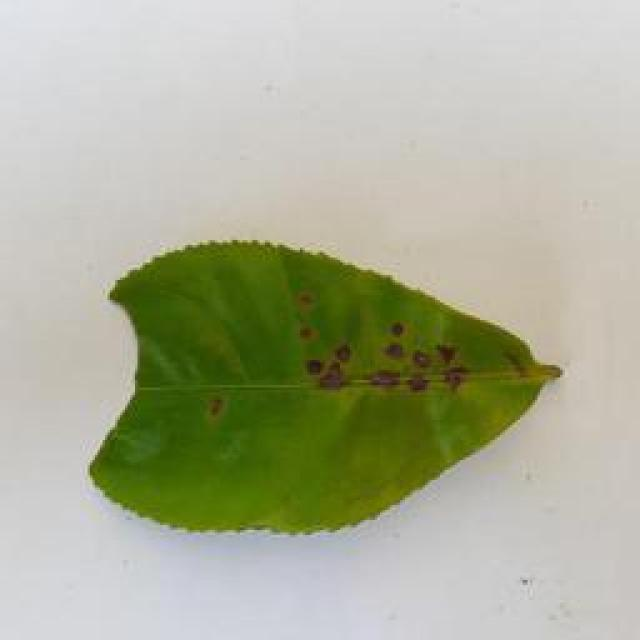Helopeltis: (78, 233, 562, 542)
